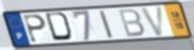7: (70, 8, 93, 43)
B: (117, 8, 147, 39)
D: (43, 11, 75, 43)
I: (98, 9, 116, 40)
P: (22, 13, 48, 44)
V: (139, 5, 165, 38)
